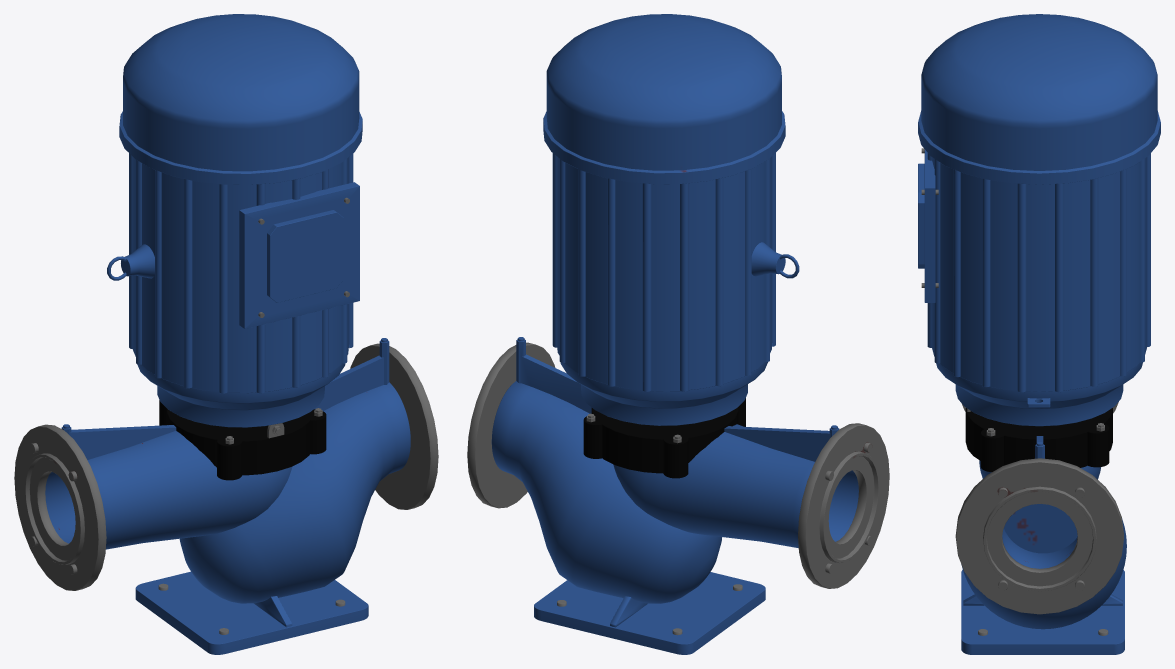
Rendered from EQ_变频泵_1.fbx.
3 renders of one model, left to right at view 1: azimuth 30°, elevation 25°; view 2: azimuth 150°, elevation 25°; view 3: azimuth 270°, elevation 25°, orthographic.
Parts seen in each view (by area): view 1: EQ_变频泵_ 零件_03, EQ_变频泵_ 零件_07, EQ_变频泵_ 零件_08, EQ_变频泵_ 零件_10, EQ_变频泵_ 零件_04, EQ_变频泵_ 零件_12, EQ_变频泵_ 零件_01, EQ_变频泵_ 零件_16, EQ_变频泵_ 零件_00; view 2: EQ_变频泵_ 零件_03, EQ_变频泵_ 零件_07, EQ_变频泵_ 零件_08, EQ_变频泵_ 零件_10, EQ_变频泵_ 零件_12, EQ_变频泵_ 零件_16, EQ_变频泵_ 零件_00; view 3: EQ_变频泵_ 零件_03, EQ_变频泵_ 零件_16, EQ_变频泵_ 零件_07, EQ_变频泵_ 零件_10, EQ_变频泵_ 零件_12, EQ_变频泵_ 零件_04, EQ_变频泵_ 零件_01.
Part boxes in pixels (x1=…): EQ_变频泵_ 零件_03: x1=119, y1=14, x2=362, y2=427; EQ_变频泵_ 零件_07: x1=45, y1=338, x2=410, y2=627; EQ_变频泵_ 零件_08: x1=14, y1=424, x2=106, y2=590; EQ_变频泵_ 零件_10: x1=135, y1=571, x2=368, y2=654; EQ_变频泵_ 零件_04: x1=239, y1=182, x2=359, y2=328; EQ_变频泵_ 零件_12: x1=159, y1=400, x2=326, y2=480; EQ_变频泵_ 零件_01: x1=267, y1=210, x2=343, y2=302; EQ_变频泵_ 零件_16: x1=350, y1=343, x2=438, y2=509; EQ_变频泵_ 零件_00: x1=107, y1=244, x2=154, y2=280; EQ_变频泵_ 零件_03: x1=543, y1=14, x2=785, y2=425; EQ_变频泵_ 零件_07: x1=491, y1=337, x2=858, y2=627; EQ_变频泵_ 零件_08: x1=798, y1=423, x2=889, y2=588; EQ_变频泵_ 零件_10: x1=534, y1=572, x2=765, y2=654; EQ_变频泵_ 零件_12: x1=583, y1=398, x2=745, y2=478; EQ_变频泵_ 零件_16: x1=467, y1=342, x2=555, y2=508; EQ_变频泵_ 零件_00: x1=751, y1=242, x2=799, y2=278; EQ_变频泵_ 零件_03: x1=918, y1=14, x2=1160, y2=426; EQ_变频泵_ 零件_16: x1=955, y1=458, x2=1123, y2=614; EQ_变频泵_ 零件_07: x1=961, y1=436, x2=1126, y2=629; EQ_变频泵_ 零件_10: x1=961, y1=570, x2=1124, y2=654; EQ_变频泵_ 零件_12: x1=965, y1=408, x2=1112, y2=471; EQ_变频泵_ 零件_04: x1=922, y1=149, x2=938, y2=302; EQ_变频泵_ 零件_01: x1=918, y1=163, x2=924, y2=268.
Bounding box in the file's own units: 208 × 328 × 126.
